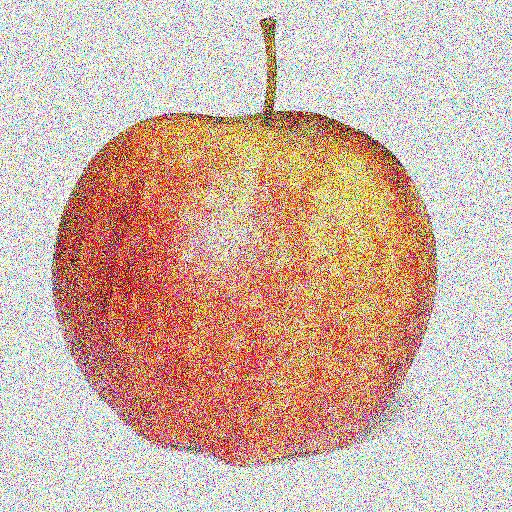fruit: (21, 141, 92, 496)
